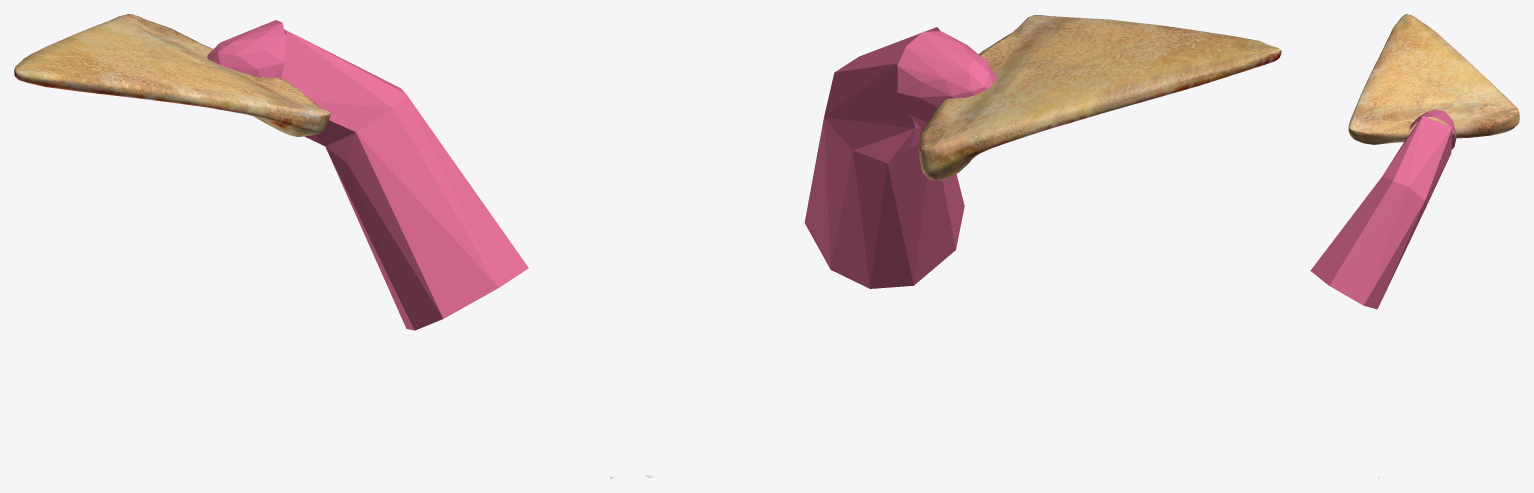
Rendered from NPCbrazo1pizza.obj.
The picture shows the model from 3 angles, left to right: view 1: azimuth 30°, elevation 25°; view 2: azimuth 150°, elevation 25°; view 3: azimuth 270°, elevation 25°; orthographic projection. The views are drawn at different scales.
Parts seen in each view (by area): view 1: Pizza_Pizza_0; view 2: Pizza_Pizza_0; view 3: Pizza_Pizza_0.
Part boxes in pixels (<box>): Pizza_Pizza_0: <box>14,14,616,478</box>; Pizza_Pizza_0: <box>645,15,1281,477</box>; Pizza_Pizza_0: <box>1310,14,1519,478</box>.
Size of the model in its own units: 2.24 by 1.96 by 1.22.
Materials: 4 (3 with a texture image).
